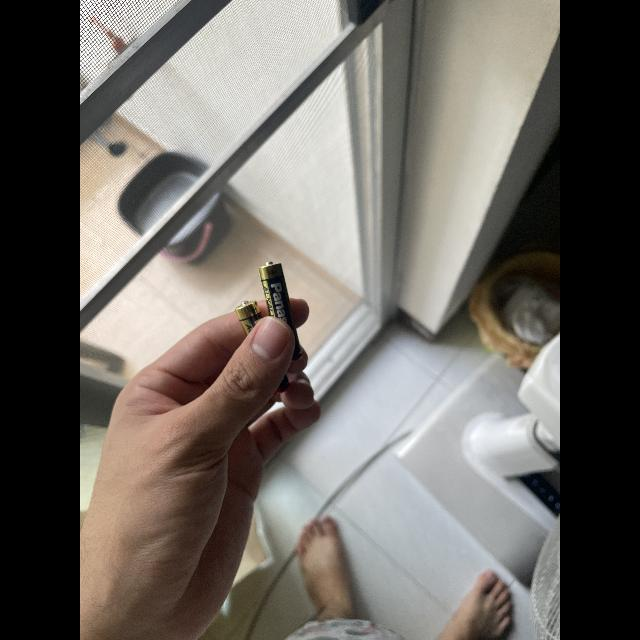battery: (236, 299, 293, 394), (260, 261, 304, 363)
